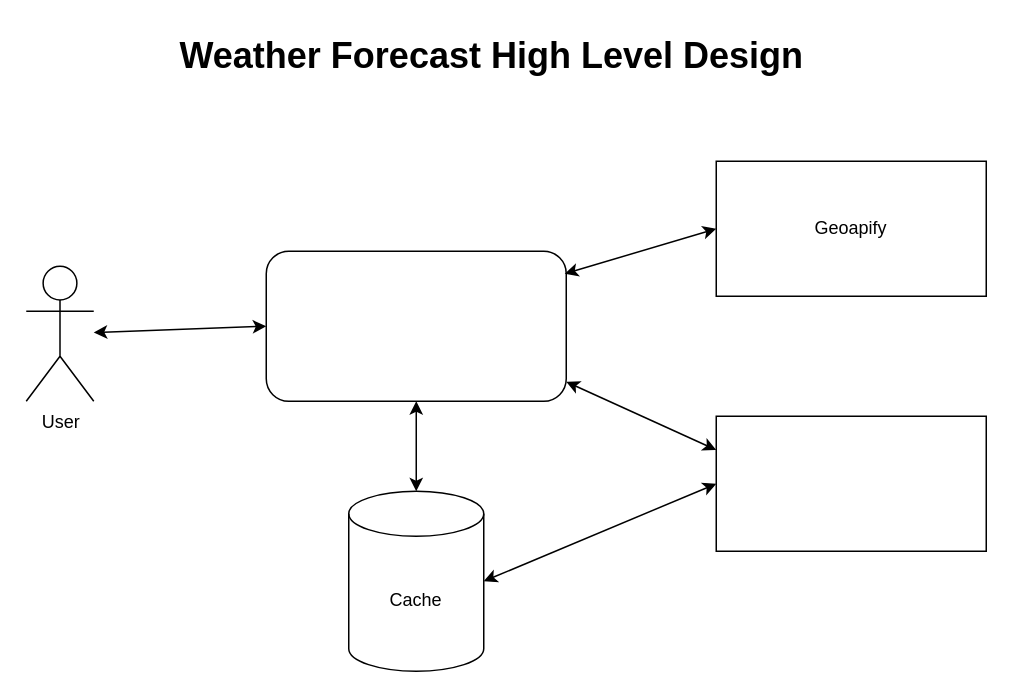
Some shapes in this 1013 by 698 pixel diagram are drawn without their labels. Here are the shapes that lost their labels. From the top down, the box of each, then its label:
(265, 250, 566, 401): Weather Forecast
(715, 415, 986, 551): Open Weather
